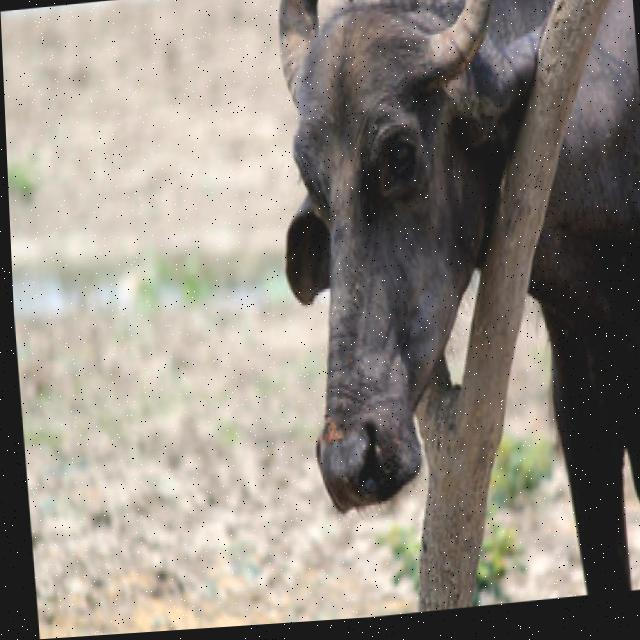Buffalo: (259, 0, 640, 623)
